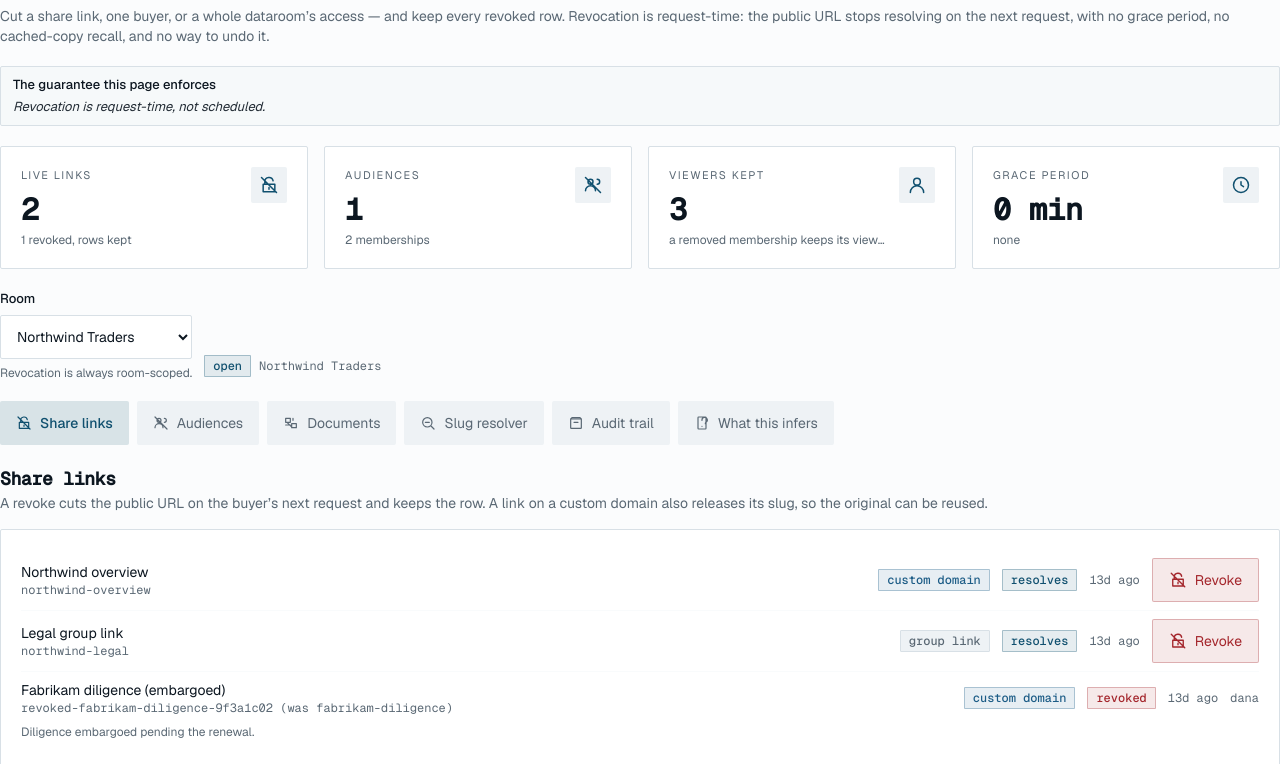
Test: share links › says the row is not reversible, and offers nothing that could undo it
Expected: the tab "Share links" is shown, 0,402 -> 129,446
Click the button "Revoke" in the row of "northwind-overview". click: (1205, 580)
box: 1152,558 -> 1259,602
(page scrolled)
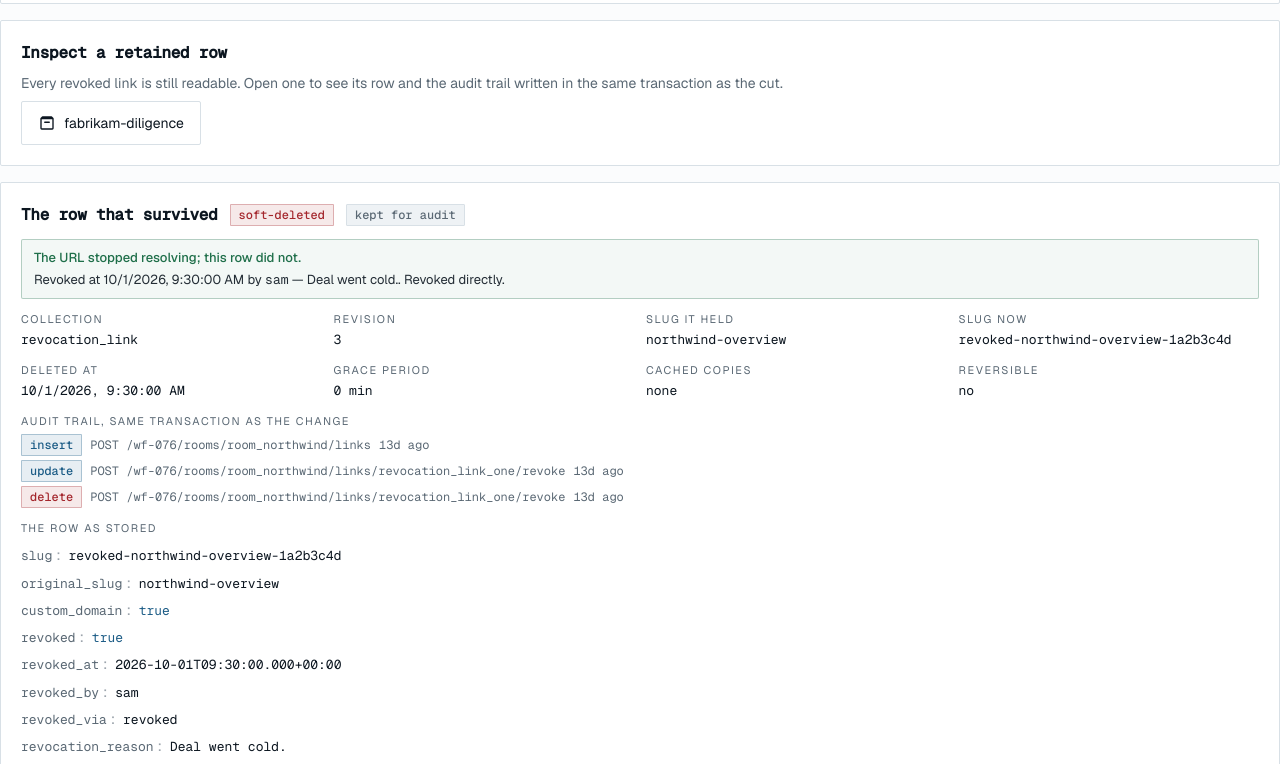
Now the text "Reversible" is shown, box 958,363 -> 1039,377
